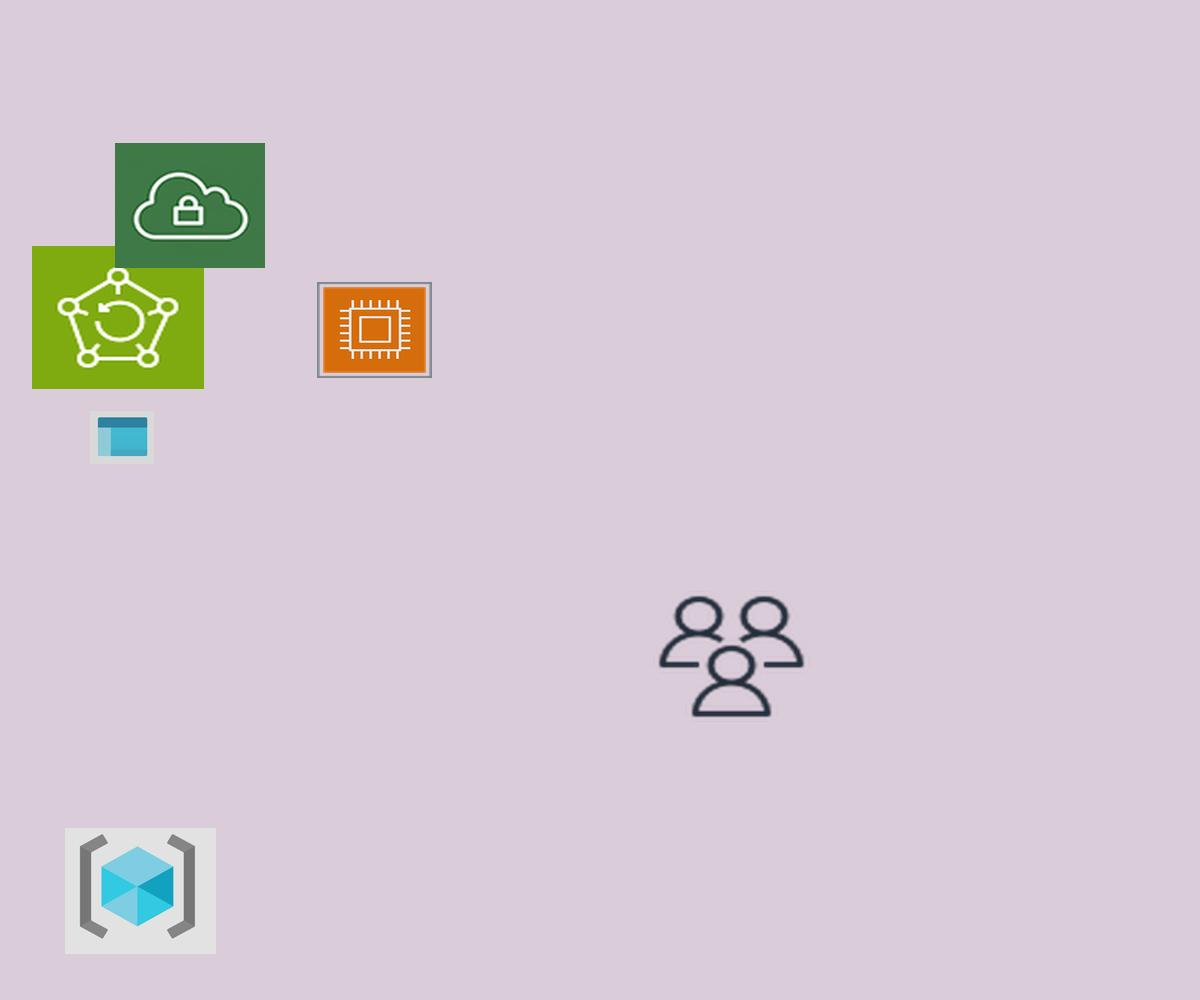AWS-Backup: (32, 246, 204, 389)
AWS-Category_Compute: (317, 282, 432, 378)
AWS-Private_vpc: (115, 143, 265, 268)
AWS-Res_Users: (653, 591, 810, 722)
Azure_management-portal: (90, 411, 154, 464)
Azure_resource_group: (65, 828, 216, 954)
